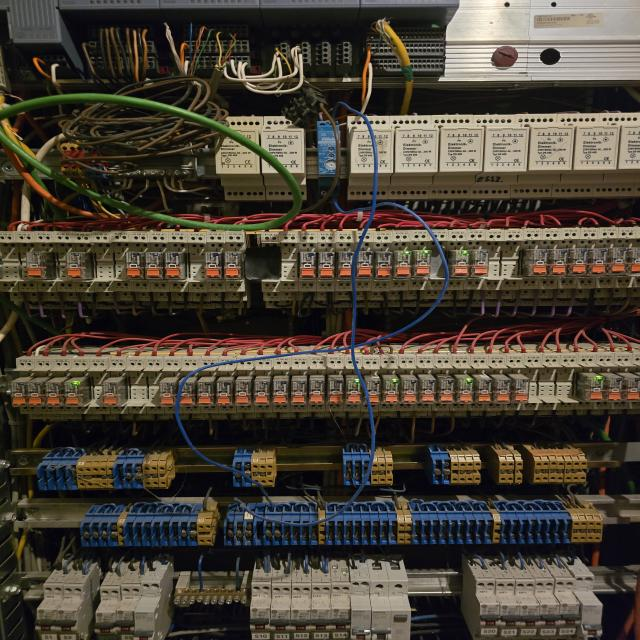Dimmer: (550, 114, 620, 199), (510, 115, 574, 198), (469, 114, 529, 198), (428, 115, 483, 198), (387, 115, 438, 200), (215, 116, 265, 200), (593, 112, 640, 197), (347, 116, 394, 200), (259, 116, 306, 199), (315, 120, 341, 201)
FI_Sicherungskombi: (370, 579, 410, 640)
Relais: (65, 252, 93, 281), (577, 372, 604, 402), (27, 252, 55, 280), (448, 250, 470, 280), (523, 249, 547, 276), (164, 252, 186, 280), (125, 251, 145, 280), (603, 372, 622, 402), (393, 250, 412, 279), (64, 380, 85, 406), (622, 372, 640, 402), (607, 248, 626, 276), (205, 252, 224, 279), (569, 249, 588, 276), (45, 381, 64, 408), (102, 382, 124, 405), (225, 252, 243, 280), (413, 250, 431, 278), (549, 248, 567, 276), (26, 381, 44, 408), (471, 250, 488, 278), (590, 248, 607, 276), (146, 252, 162, 280), (375, 251, 391, 279), (356, 251, 373, 277), (337, 251, 353, 278), (300, 252, 316, 278), (291, 380, 307, 406), (365, 380, 381, 406), (438, 378, 454, 404), (10, 382, 27, 406), (177, 382, 194, 406), (197, 382, 214, 406), (216, 382, 233, 406), (235, 381, 252, 405), (319, 252, 334, 279), (254, 381, 270, 406), (383, 379, 399, 404), (401, 379, 417, 404), (420, 379, 436, 404), (495, 379, 511, 404), (458, 378, 473, 404), (159, 382, 175, 406), (273, 381, 288, 406), (346, 380, 361, 405), (513, 379, 529, 402), (627, 248, 640, 276), (309, 380, 324, 404), (477, 379, 492, 403), (329, 380, 343, 404)
Schaltkasten: (7, 1, 640, 640)
Sicherungen_230V: (571, 576, 604, 639), (550, 576, 581, 640), (530, 578, 560, 640), (511, 578, 540, 640), (36, 581, 66, 640), (132, 582, 161, 640), (56, 582, 84, 640), (475, 578, 501, 640), (494, 578, 520, 640), (113, 584, 141, 640), (94, 585, 121, 640), (306, 582, 331, 640), (348, 580, 372, 640), (327, 581, 350, 640), (270, 582, 293, 640), (250, 582, 272, 640), (292, 582, 311, 640)
Verbinder: (222, 501, 603, 546), (80, 502, 217, 547), (38, 451, 175, 490), (522, 444, 586, 485), (426, 444, 480, 486), (341, 446, 393, 485), (231, 447, 276, 487), (489, 444, 523, 484)
